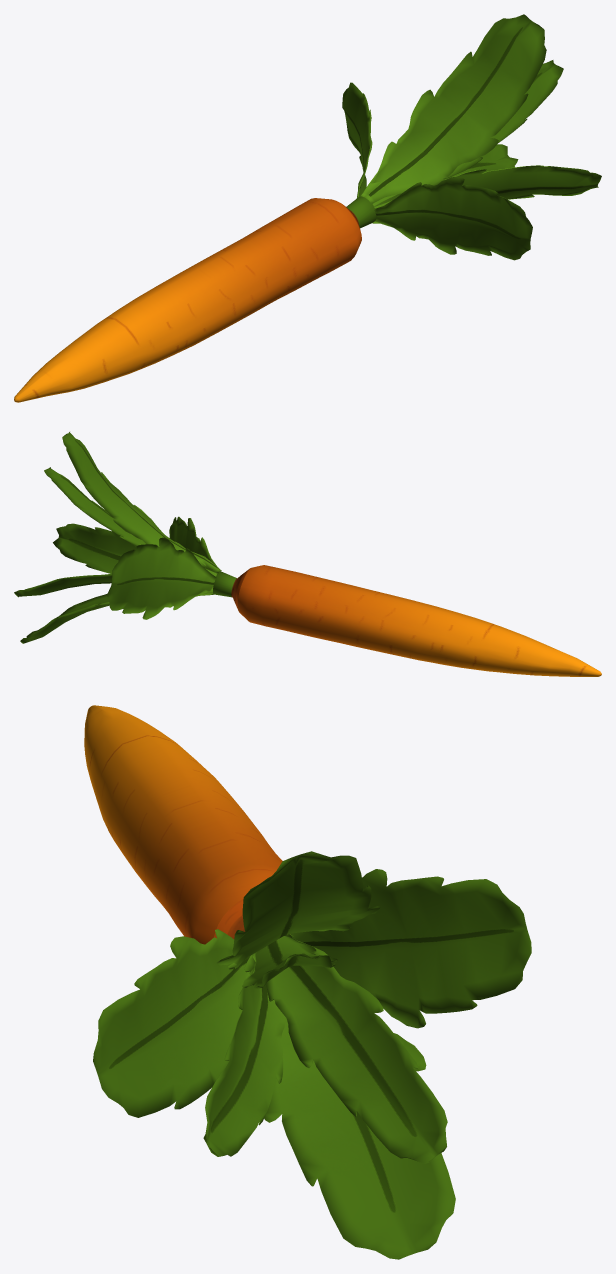
The model's file is carrot_dynamic.obj.
The picture shows the model from 3 angles, top to bottom: view 1: azimuth 30°, elevation 25°; view 2: azimuth 150°, elevation 25°; view 3: azimuth 270°, elevation 25°; orthographic projection. The views are drawn at different scales.
Bounding box in the file's own units: 0.8061 × 0.2909 × 0.3016.
Materials: 3 (3 with a texture image).
